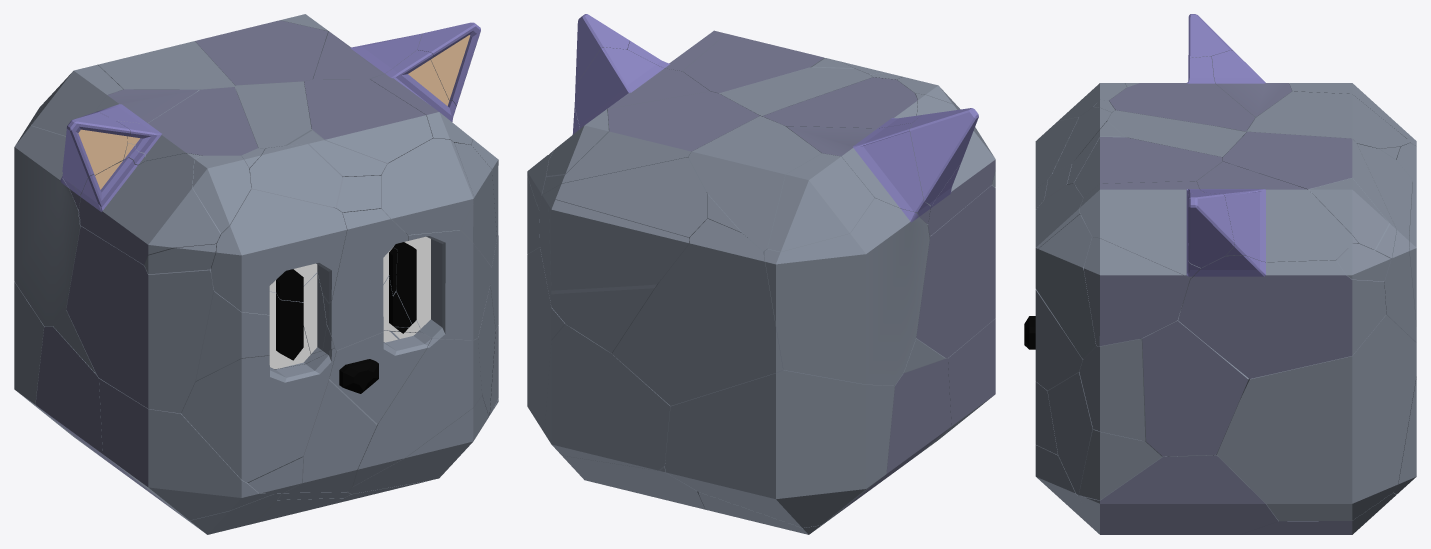
File: player_expl.fbx
3 renders of one model, left to right at view 1: azimuth 30°, elevation 25°; view 2: azimuth 150°, elevation 25°; view 3: azimuth 270°, elevation 25°, orthographic. The views are drawn at different scales.
Visible parts, largest first — view 1: PlayerModel_cell.054, PlayerModel_cell.013, PlayerModel_cell.037, PlayerModel_cell.005, PlayerModel_cell.081, PlayerModel_cell.075, PlayerModel_cell.073, PlayerModel_cell.014, PlayerModel_cell, PlayerModel_cell.062, PlayerModel_cell.009, PlayerModel_cell.065 (+31 smaller); view 2: PlayerModel_cell.063, PlayerModel_cell.075, PlayerModel_cell.023, PlayerModel_cell.050, PlayerModel_cell.036, PlayerModel_cell.054, PlayerModel_cell.072, PlayerModel_cell.053, PlayerModel_cell.043, PlayerModel_cell.044, PlayerModel_cell.060, PlayerModel_cell.019 (+17 smaller); view 3: PlayerModel_cell.008, PlayerModel_cell.080, PlayerModel_cell.038, PlayerModel_cell.042, PlayerModel_cell.019, PlayerModel_cell.016, PlayerModel_cell.006, PlayerModel_cell.072, PlayerModel_cell.043, PlayerModel_cell.078, PlayerModel_cell.012, PlayerModel_cell.045 (+24 smaller).
Boxes of the visible parts, x1=… form: PlayerModel_cell.054: x1=66, y1=226, x2=213, y2=413; PlayerModel_cell.013: x1=181, y1=349, x2=336, y2=482; PlayerModel_cell.037: x1=211, y1=188, x2=346, y2=314; PlayerModel_cell.005: x1=99, y1=378, x2=272, y2=520; PlayerModel_cell.081: x1=79, y1=153, x2=220, y2=264; PlayerModel_cell.075: x1=14, y1=103, x2=80, y2=326; PlayerModel_cell.073: x1=353, y1=334, x2=481, y2=486; PlayerModel_cell.014: x1=393, y1=230, x2=491, y2=340; PlayerModel_cell: x1=304, y1=79, x2=432, y2=163; PlayerModel_cell.062: x1=323, y1=209, x2=407, y2=350; PlayerModel_cell.009: x1=381, y1=138, x2=474, y2=234; PlayerModel_cell.065: x1=195, y1=291, x2=334, y2=381; PlayerModel_cell.063: x1=665, y1=370, x2=894, y2=527; PlayerModel_cell.075: x1=764, y1=198, x2=929, y2=385; PlayerModel_cell.023: x1=612, y1=218, x2=783, y2=405; PlayerModel_cell.050: x1=544, y1=324, x2=670, y2=470; PlayerModel_cell.036: x1=539, y1=157, x2=707, y2=353; PlayerModel_cell.054: x1=916, y1=185, x2=995, y2=358; PlayerModel_cell.072: x1=542, y1=91, x2=759, y2=194; PlayerModel_cell.053: x1=548, y1=199, x2=689, y2=290; PlayerModel_cell.043: x1=688, y1=116, x2=821, y2=251; PlayerModel_cell.044: x1=767, y1=153, x2=874, y2=251; PlayerModel_cell.060: x1=786, y1=123, x2=930, y2=223; PlayerModel_cell.019: x1=548, y1=47, x2=709, y2=159; PlayerModel_cell.008: x1=1213, y1=315, x2=1416, y2=521; PlayerModel_cell.080: x1=1178, y1=255, x2=1386, y2=378; PlayerModel_cell.038: x1=1079, y1=455, x2=1277, y2=534; PlayerModel_cell.042: x1=1140, y1=311, x2=1248, y2=456; PlayerModel_cell.019: x1=1196, y1=161, x2=1358, y2=262; PlayerModel_cell.016: x1=1084, y1=237, x2=1189, y2=346; PlayerModel_cell.006: x1=1080, y1=181, x2=1204, y2=283; PlayerModel_cell.072: x1=1223, y1=131, x2=1396, y2=258; PlayerModel_cell.043: x1=1247, y1=91, x2=1409, y2=148; PlayerModel_cell.078: x1=1035, y1=214, x2=1096, y2=358; PlayerModel_cell.012: x1=1079, y1=339, x2=1145, y2=441; PlayerModel_cell.045: x1=1109, y1=56, x2=1255, y2=131.
Bounding box in the file's own units: 235 × 218 × 206.
